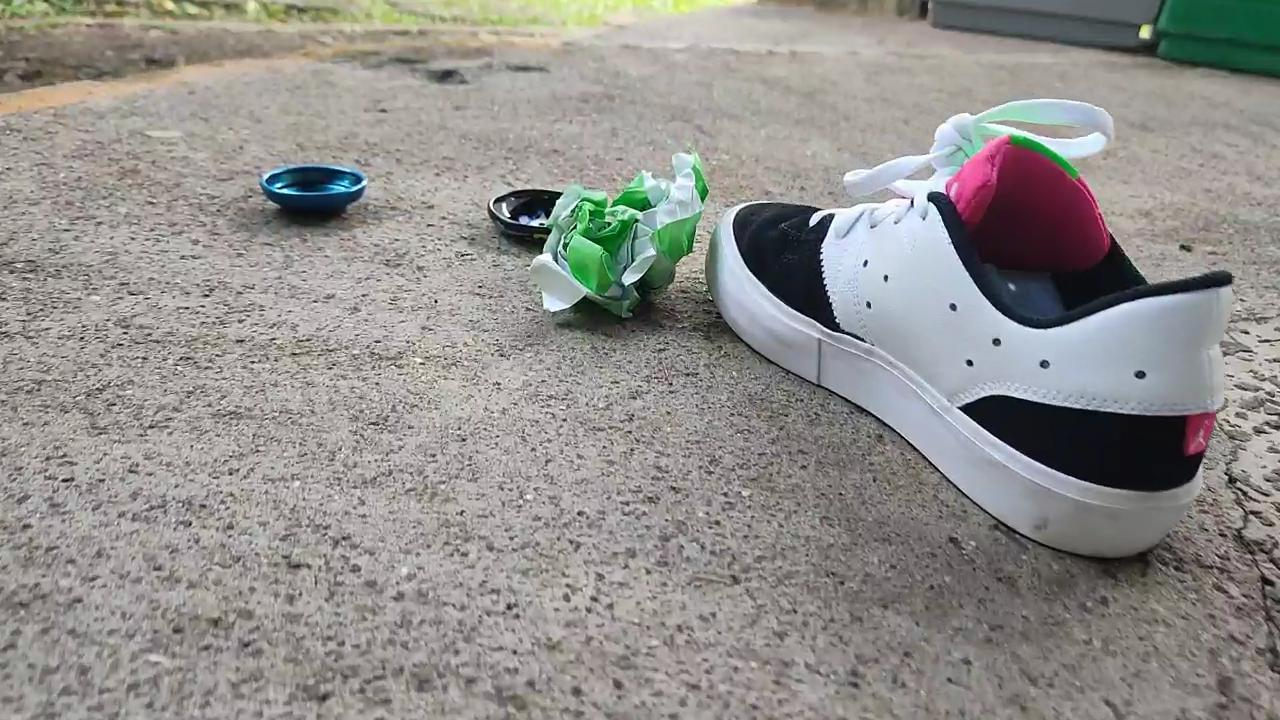Paper: (529, 138, 717, 330)
